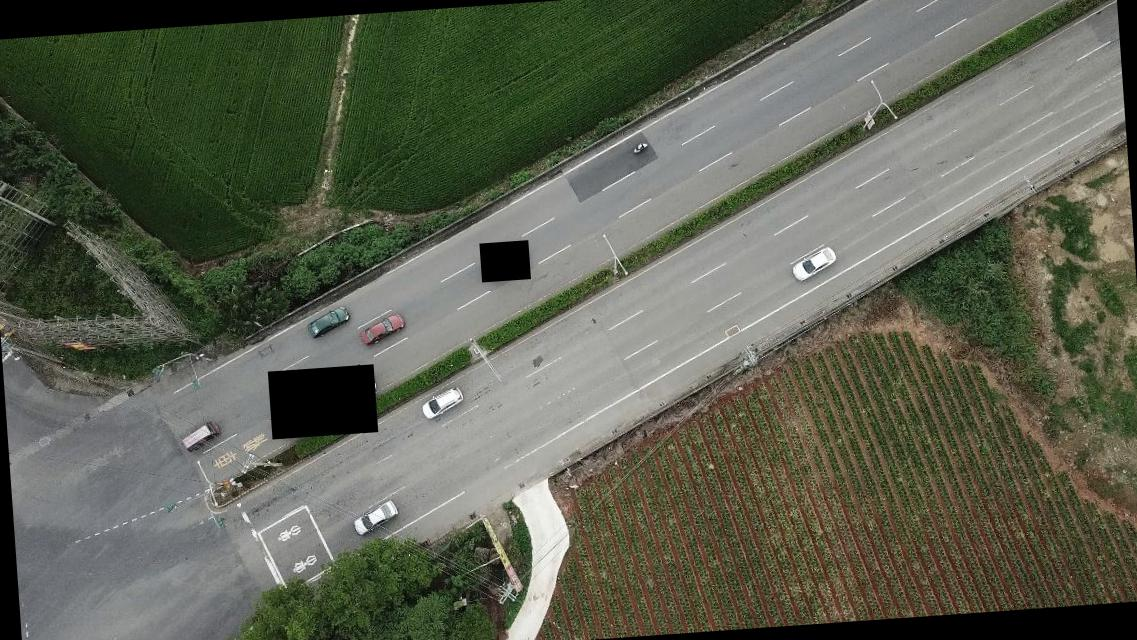vehicle: (349, 498, 398, 536), (791, 245, 838, 282), (306, 303, 354, 337), (420, 386, 464, 420), (178, 419, 221, 452), (360, 314, 407, 344)
